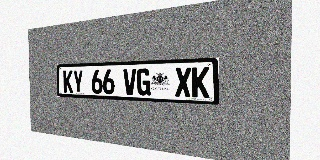6: (91, 69, 103, 94), (103, 69, 115, 94)
G: (137, 68, 150, 96)
K: (192, 67, 209, 98), (63, 70, 73, 93)
V: (123, 69, 136, 95)
X: (175, 67, 191, 97)
Y: (73, 70, 83, 93)
